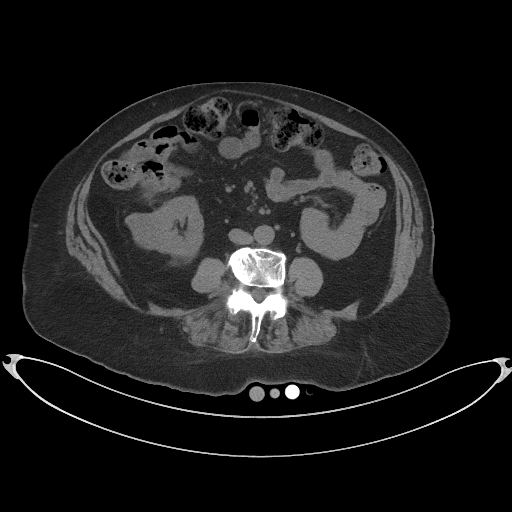Lesion: (122, 208, 167, 254)
